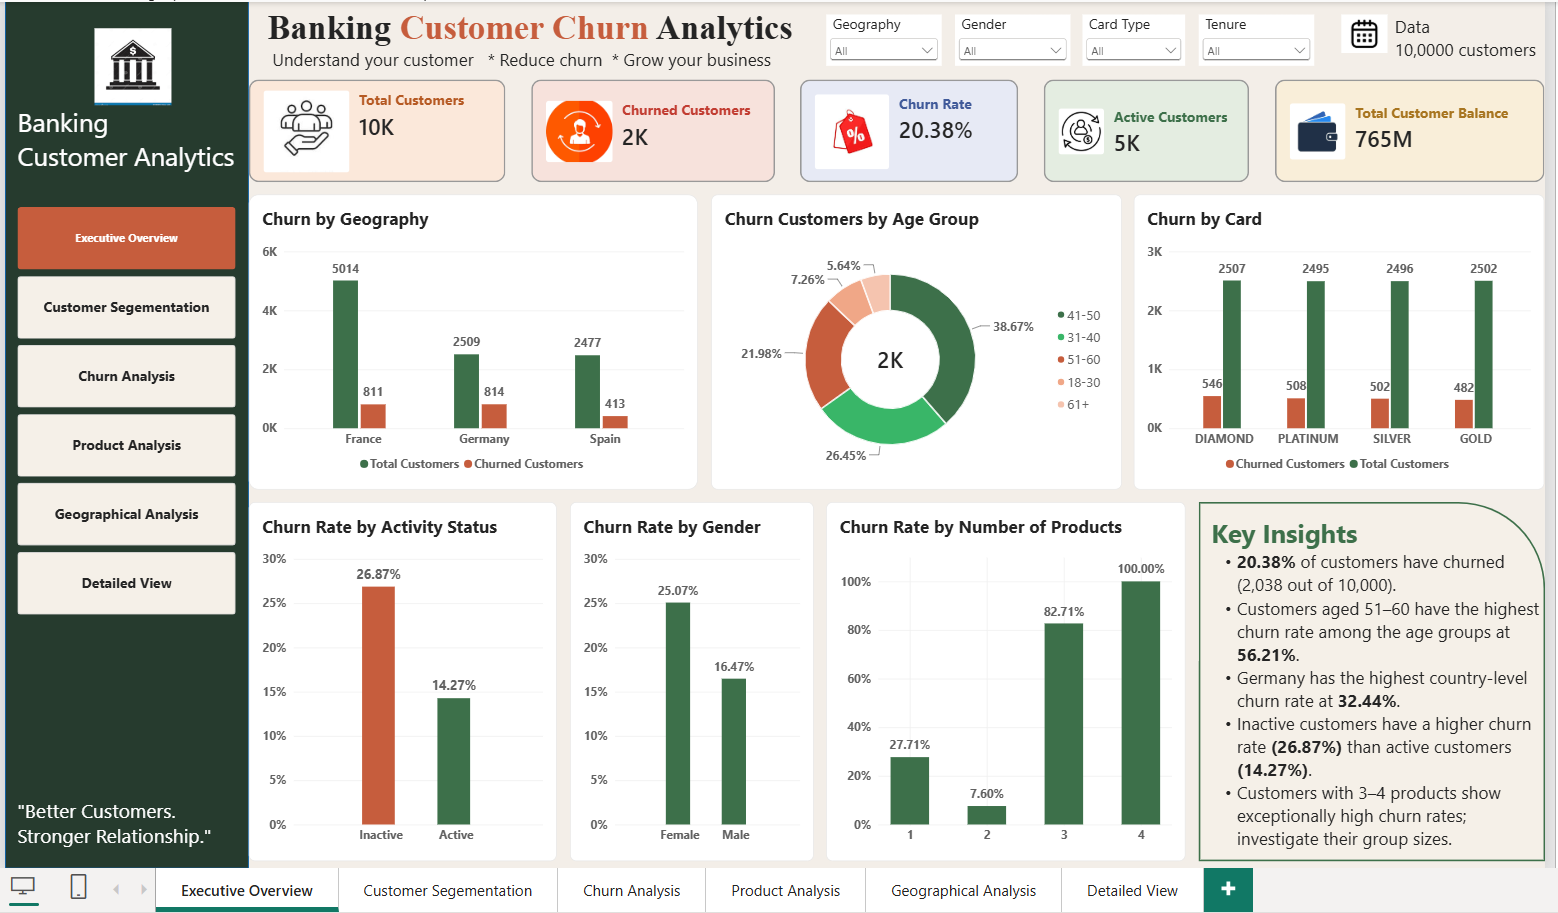

The dashboard page shown, as its layout file describes it:
{"tool":"powerbi","page":{"name":"Executive Overview","canvas":[1920,1080],"ordinal":0},"visuals":[{"type":"shape","box":[0,-24,304,1104],"z":0},{"type":"textbox","box":[16,128,272,96],"z":1000},{"type":"image","box":[16,32,288,96],"z":2000},{"type":"pageNavigator","box":[16,256,272,512],"z":3000},{"type":"textbox","box":[16,992,288,64],"z":4000},{"type":"textbox","box":[304,0,784,96],"z":5000},{"type":"slicer","fields":{"Values":["Banking_Customer_Churn.Geography"]},"box":[1024,16,144,64],"z":6000},{"type":"slicer","fields":{"Values":["Banking_Customer_Churn.Gender"]},"box":[1184,16,144,64],"z":7000},{"type":"slicer","fields":{"Values":["Banking_Customer_Churn.Card Type"]},"box":[1344,16,128,64],"z":8000},{"type":"slicer","fields":{"Values":["Banking_Customer_Churn.Tenure"]},"box":[1488,16,144,64],"z":9000},{"type":"textbox","box":[1728,16,192,64],"z":10000},{"type":"image","box":[1664,16,64,48],"z":11000},{"type":"cardVisual","fields":{"Data":["Banking_Customer_Churn.Total Customers"]},"box":[304,96,320,128],"z":12000},{"type":"cardVisual","fields":{"Data":["Banking_Customer_Churn.Churned Customers"]},"box":[656,96,304,128],"z":13000},{"type":"cardVisual","fields":{"Data":["Banking_Customer_Churn.Churn Rate"]},"box":[992,96,272,128],"z":14000},{"type":"cardVisual","fields":{"Data":["Banking_Customer_Churn.Active Customers"]},"box":[1296,96,256,128],"z":15000},{"type":"cardVisual","fields":{"Data":["Banking_Customer_Churn.Total Customer Balance"]},"box":[1584,96,336,128],"z":16000},{"type":"clusteredColumnChart","title":"Churn by Geography","fields":{"Category":["Banking_Customer_Churn.Geography"],"Y":["Banking_Customer_Churn.Total Customers","Banking_Customer_Churn.Churned Customers"]},"box":[304,240,560,368],"z":17000},{"type":"donutChart","title":"Churn Customers by Age Group","fields":{"Category":["Banking_Customer_Churn.Age Group"],"Y":["Banking_Customer_Churn.Churned Customers"]},"box":[880,240,512,368],"z":18000},{"type":"clusteredColumnChart","fields":{"Category":["Banking_Customer_Churn.Gender"],"Y":["Banking_Customer_Churn.Churn Rate"]},"box":[704,624,304,448],"z":19000},{"type":"clusteredColumnChart","title":"Churn Rate by Activity Status","fields":{"Category":["Banking_Customer_Churn.Activity Status"],"Y":["Banking_Customer_Churn.Churn Rate"]},"box":[304,624,384,448],"z":20000},{"type":"clusteredColumnChart","title":"Churn Rate by Number of Products","fields":{"Category":["Banking_Customer_Churn.NumOfProducts"],"Y":["Banking_Customer_Churn.Churn Rate"]},"box":[1024,624,448,448],"z":21000},{"type":"shape","box":[1488,624,432,448],"z":22000},{"type":"textbox","box":[1504,640,416,432],"z":23000},{"type":"clusteredColumnChart","title":"Churn by Card","fields":{"Category":["Banking_Customer_Churn.Card Type"],"Y":["Banking_Customer_Churn.Churned Customers","Banking_Customer_Churn.Total Customers"]},"box":[1408,240,512,368],"z":24000}]}

Visuals, with their boxes on the page's 1920x1080 design canvas (x1, y1, x2, y2). These are canvas units, not pixel positions in the 1558x913 screenshot, which may show the page scaled, cropped or inside an application window:
shape: <region>0, -24, 304, 1080</region>
textbox: <region>16, 128, 288, 224</region>
image: <region>16, 32, 304, 128</region>
pageNavigator: <region>16, 256, 288, 768</region>
textbox: <region>16, 992, 304, 1056</region>
textbox: <region>304, 0, 1088, 96</region>
slicer - Banking_Customer_Churn.Geography: <region>1024, 16, 1168, 80</region>
slicer - Banking_Customer_Churn.Gender: <region>1184, 16, 1328, 80</region>
slicer - Banking_Customer_Churn.Card Type: <region>1344, 16, 1472, 80</region>
slicer - Banking_Customer_Churn.Tenure: <region>1488, 16, 1632, 80</region>
textbox: <region>1728, 16, 1920, 80</region>
image: <region>1664, 16, 1728, 64</region>
cardVisual - Banking_Customer_Churn.Total Customers: <region>304, 96, 624, 224</region>
cardVisual - Banking_Customer_Churn.Churned Customers: <region>656, 96, 960, 224</region>
cardVisual - Banking_Customer_Churn.Churn Rate: <region>992, 96, 1264, 224</region>
cardVisual - Banking_Customer_Churn.Active Customers: <region>1296, 96, 1552, 224</region>
cardVisual - Banking_Customer_Churn.Total Customer Balance: <region>1584, 96, 1920, 224</region>
"Churn by Geography" clusteredColumnChart: <region>304, 240, 864, 608</region>
"Churn Customers by Age Group" donutChart: <region>880, 240, 1392, 608</region>
clusteredColumnChart - Banking_Customer_Churn.Gender x Banking_Customer_Churn.Churn Rate: <region>704, 624, 1008, 1072</region>
"Churn Rate by Activity Status" clusteredColumnChart: <region>304, 624, 688, 1072</region>
"Churn Rate by Number of Products" clusteredColumnChart: <region>1024, 624, 1472, 1072</region>
shape: <region>1488, 624, 1920, 1072</region>
textbox: <region>1504, 640, 1920, 1072</region>
"Churn by Card" clusteredColumnChart: <region>1408, 240, 1920, 608</region>
